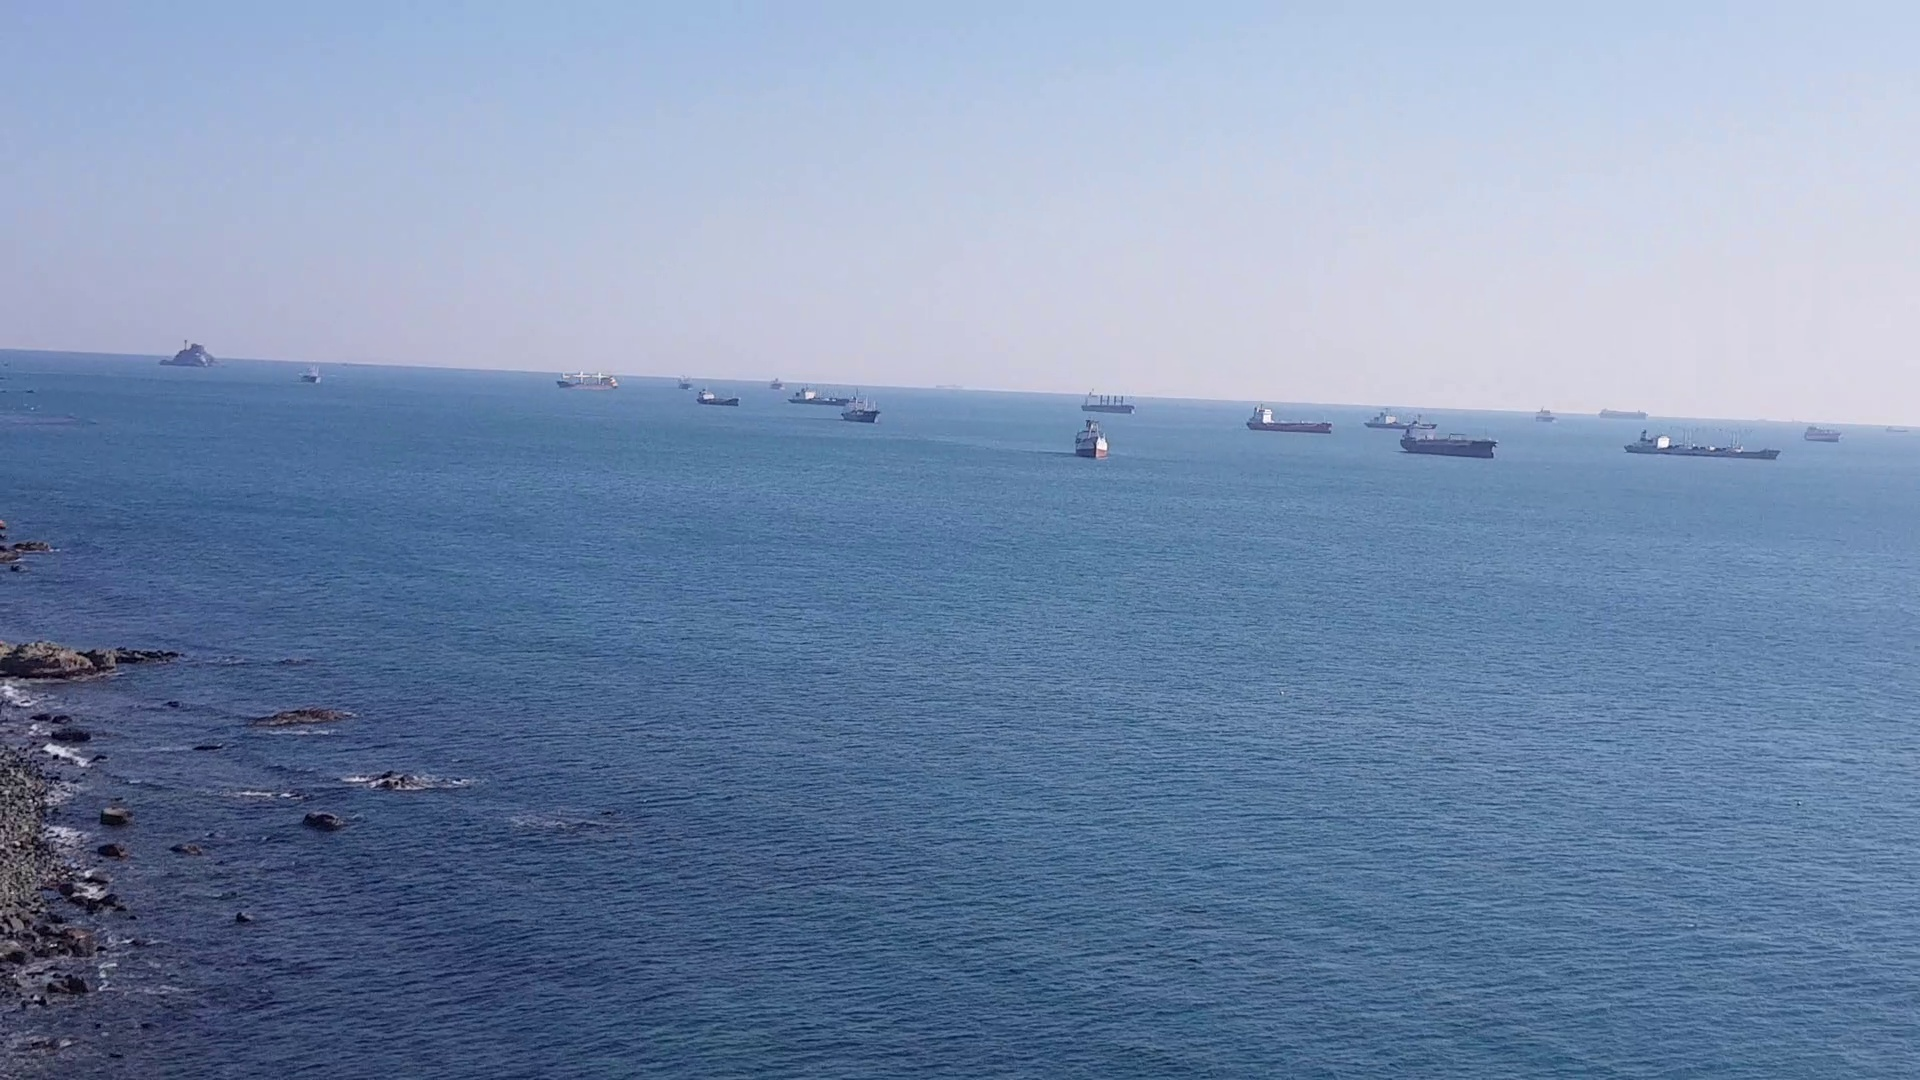Bulk_Carrier: (1383, 431, 1495, 456), (1237, 415, 1332, 435), (553, 372, 615, 388)
